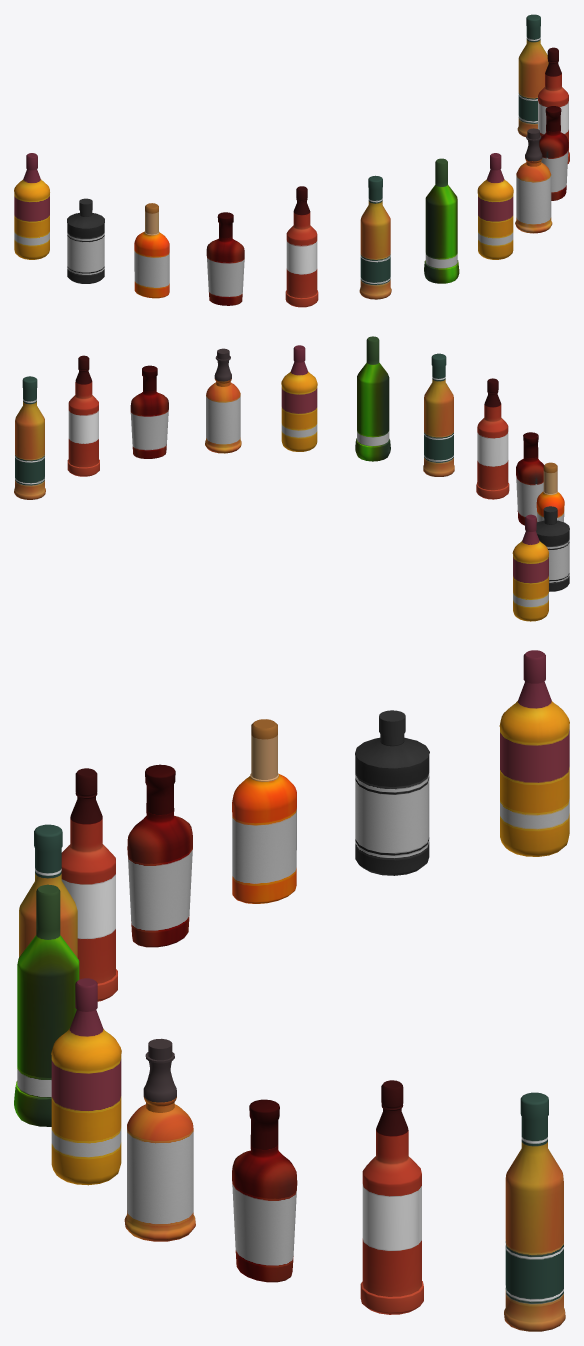
Rendered from Bottles01_14.FBX.
The picture shows the model from 3 angles, top to bottom: view 1: azimuth 30°, elevation 25°; view 2: azimuth 150°, elevation 25°; view 3: azimuth 270°, elevation 25°; orthographic projection. The views are drawn at different scales.
Parts seen in each view (by area): view 1: Bottles01_14; view 2: Bottles01_14; view 3: Bottles01_14.
Part boxes in pixels (x1,y1,x2,y2): Bottles01_14: [14, 14, 569, 307]; Bottles01_14: [14, 336, 569, 621]; Bottles01_14: [14, 650, 569, 1331].
Bounding box in the file's own units: 147 × 30.73 × 68.88.
